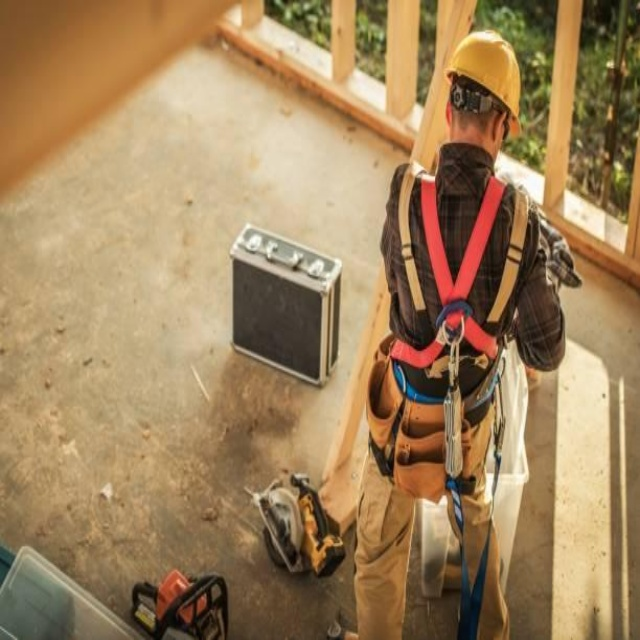Arnes_seguridad: (378, 151, 530, 516)
